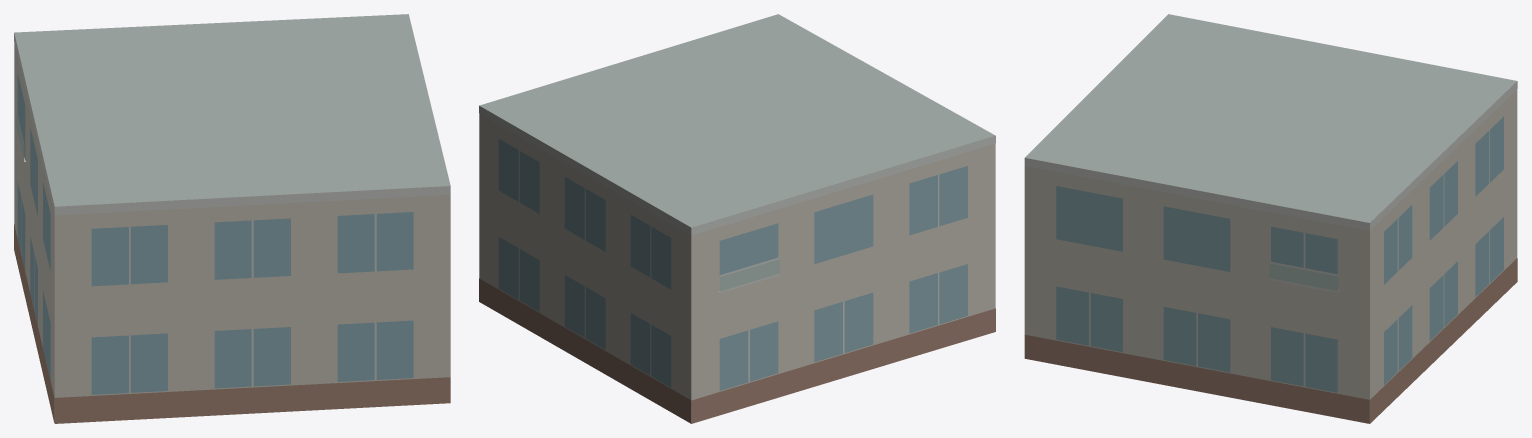
File: survey-upis-32795411.glb
The picture shows the model from 3 angles, left to right: view 1: azimuth 30°, elevation 25°; view 2: azimuth 150°, elevation 25°; view 3: azimuth 270°, elevation 25°; orthographic projection. The views are drawn at different scales.
Visible parts, largest first — view 1: survey-upis-32795411.tmp; view 2: survey-upis-32795411.tmp; view 3: survey-upis-32795411.tmp.
Boxes of the visible parts, left/top/right/bottom form: survey-upis-32795411.tmp: left=14, top=14, right=450, bottom=423; survey-upis-32795411.tmp: left=479, top=14, right=995, bottom=423; survey-upis-32795411.tmp: left=1024, top=14, right=1517, bottom=423.
Bounding box in the file's own units: 13.62 × 6.1 × 13.57.
